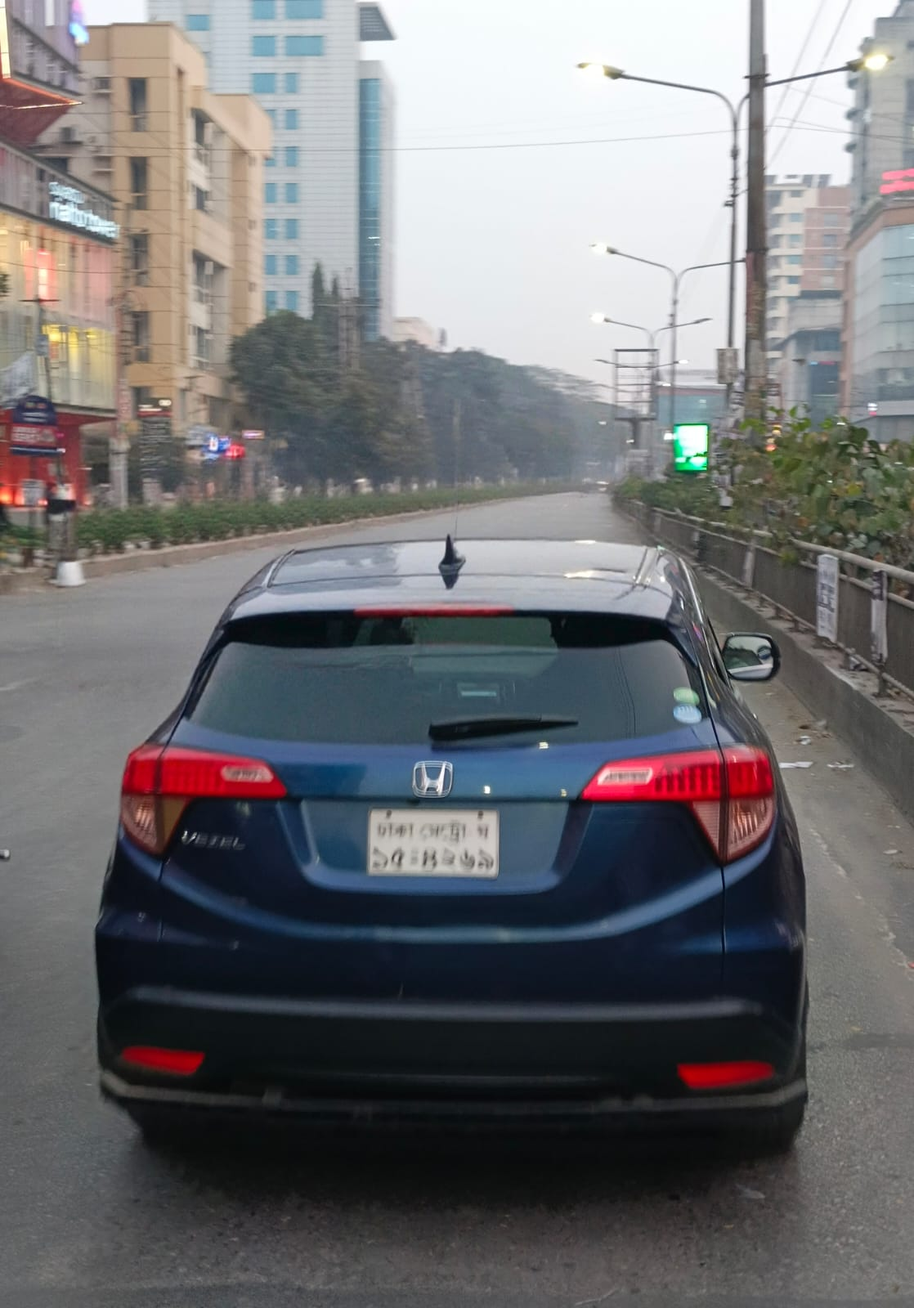private car: (82, 525, 826, 1174)
